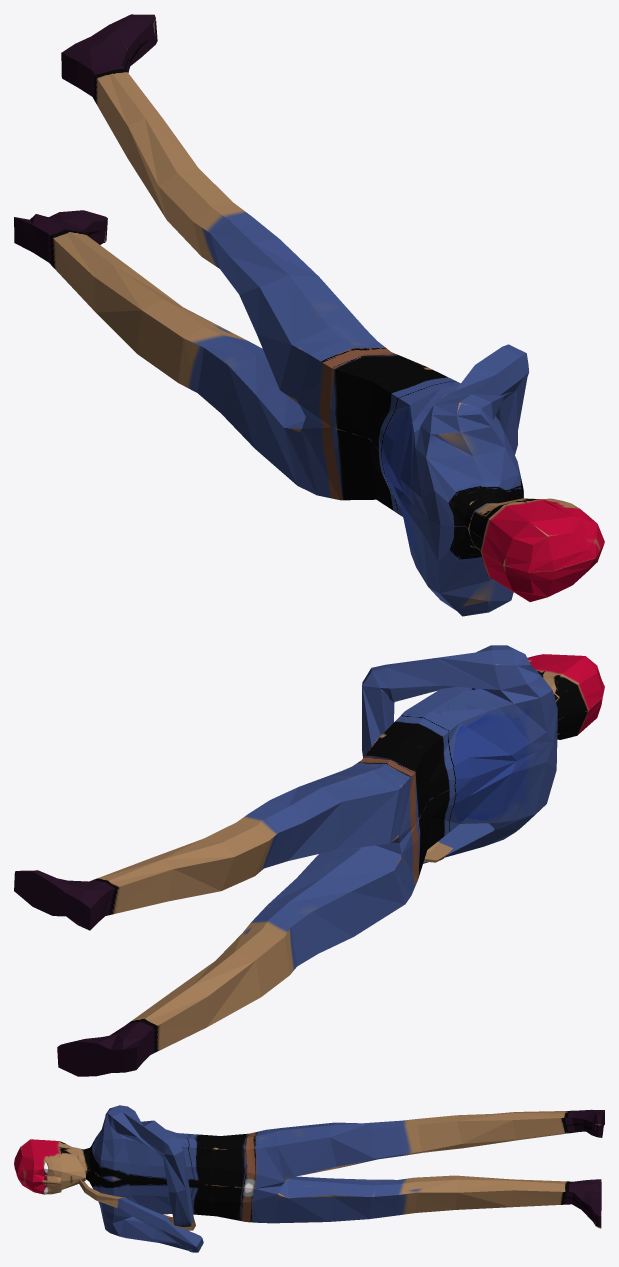
The model's file is mirrorman_000010.obj.
3 renders of one model, top to bottom at view 1: azimuth 30°, elevation 25°; view 2: azimuth 150°, elevation 25°; view 3: azimuth 270°, elevation 25°, orthographic. The views are drawn at different scales.
Visible parts, largest first — view 1: mirrorman_Cube.001_Material.001; view 2: mirrorman_Cube.001_Material.001; view 3: mirrorman_Cube.001_Material.001.
Boxes of the visible parts, x1,y1,x2,y2 form: mirrorman_Cube.001_Material.001: [14, 14, 604, 616]; mirrorman_Cube.001_Material.001: [14, 645, 604, 1076]; mirrorman_Cube.001_Material.001: [14, 1105, 604, 1252].
Bounding box in the file's own units: 0.3583 × 0.5184 × 1.9.
1 material, 1 textured.
